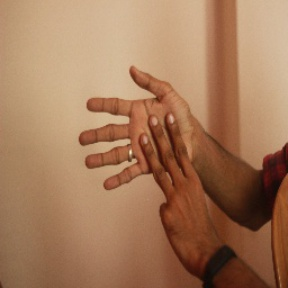M: (74, 63, 204, 213)
